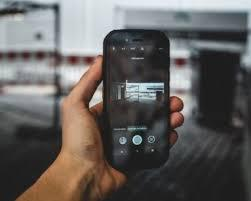Hand: (62, 56, 182, 191)
Smartphone: (103, 32, 171, 168)
